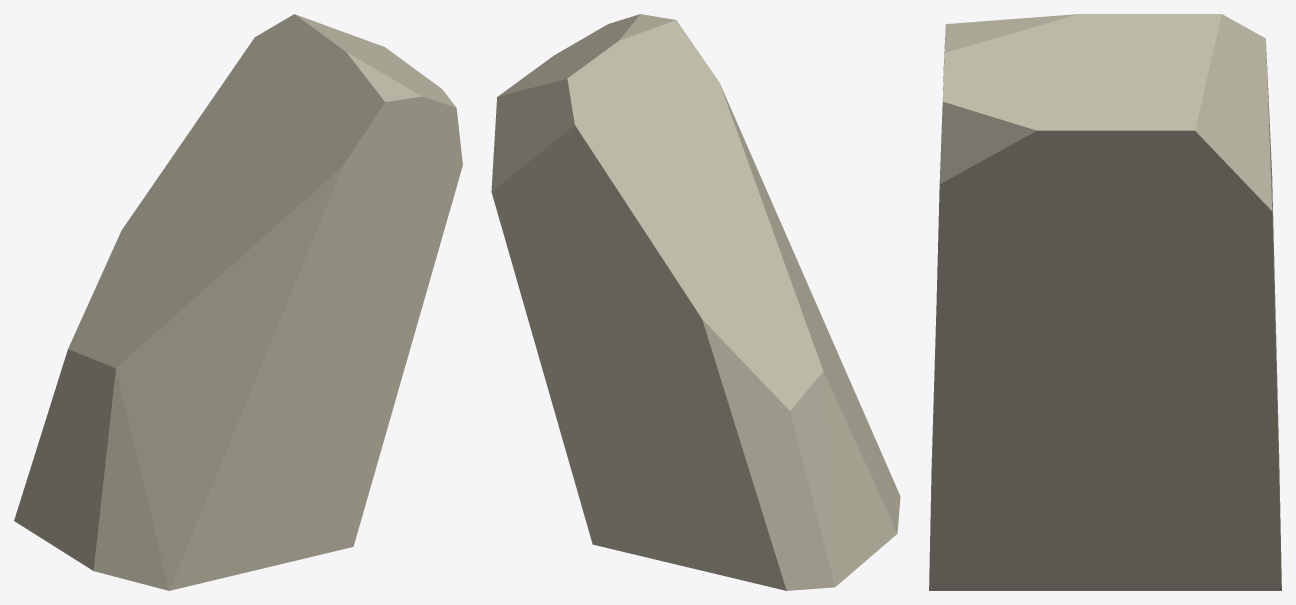
The model's file is Rock_Square_l_07 2.fbx.
3 views of the same model, side by side, from view 1: azimuth 30°, elevation 25°; view 2: azimuth 150°, elevation 25°; view 3: azimuth 270°, elevation 25° (orthographic). The views are drawn at different scales.
Parts seen in each view (by area): view 1: Rock_Square_l_07; view 2: Rock_Square_l_07; view 3: Rock_Square_l_07.
Part boxes in pixels (left/top/right/bottom): Rock_Square_l_07: left=14, top=14, right=462, bottom=590; Rock_Square_l_07: left=491, top=14, right=900, bottom=590; Rock_Square_l_07: left=929, top=14, right=1281, bottom=590.
Bounding box in the file's own units: 252 × 300 × 158.
